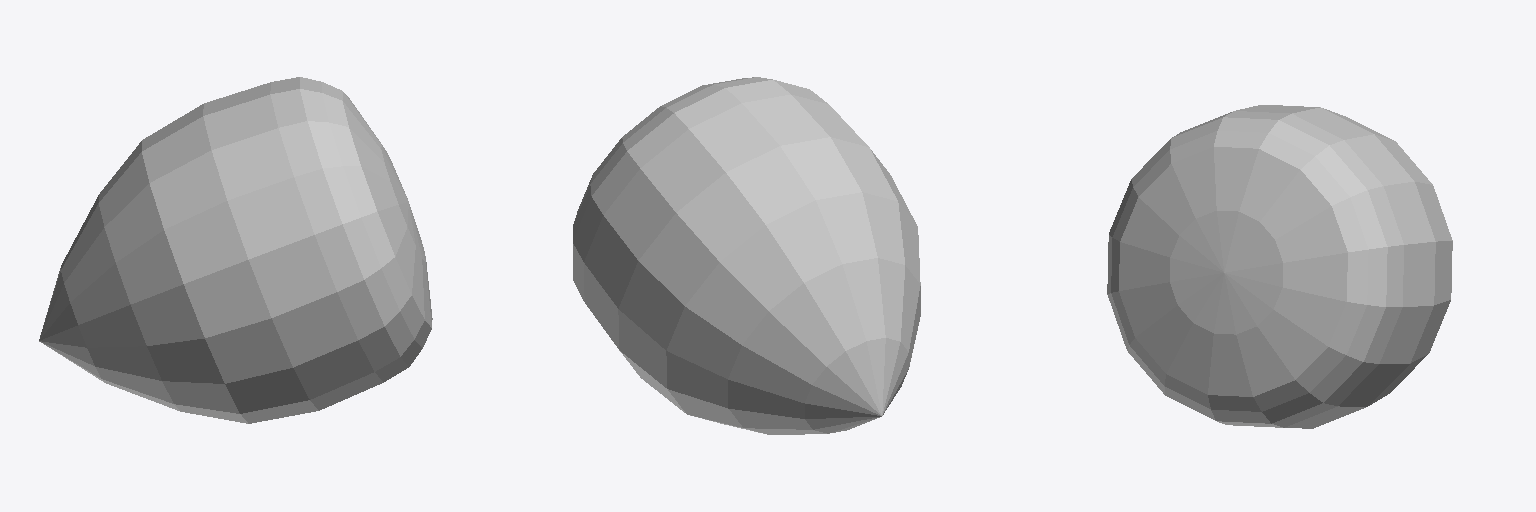
The model's file is Hazelnut.obj.
3 renders of one model, left to right at view 1: azimuth 30°, elevation 25°; view 2: azimuth 150°, elevation 25°; view 3: azimuth 270°, elevation 25°, orthographic.
Parts seen in each view (by area): view 1: Sphere001; view 2: Sphere001; view 3: Sphere001.
Part boxes in pixels (x1,y1,x2,y2): Sphere001: (39,77,432,423); Sphere001: (573,77,920,434); Sphere001: (1107,105,1452,428).
Size of the model in its own units: 215698 by 195487 by 194709.